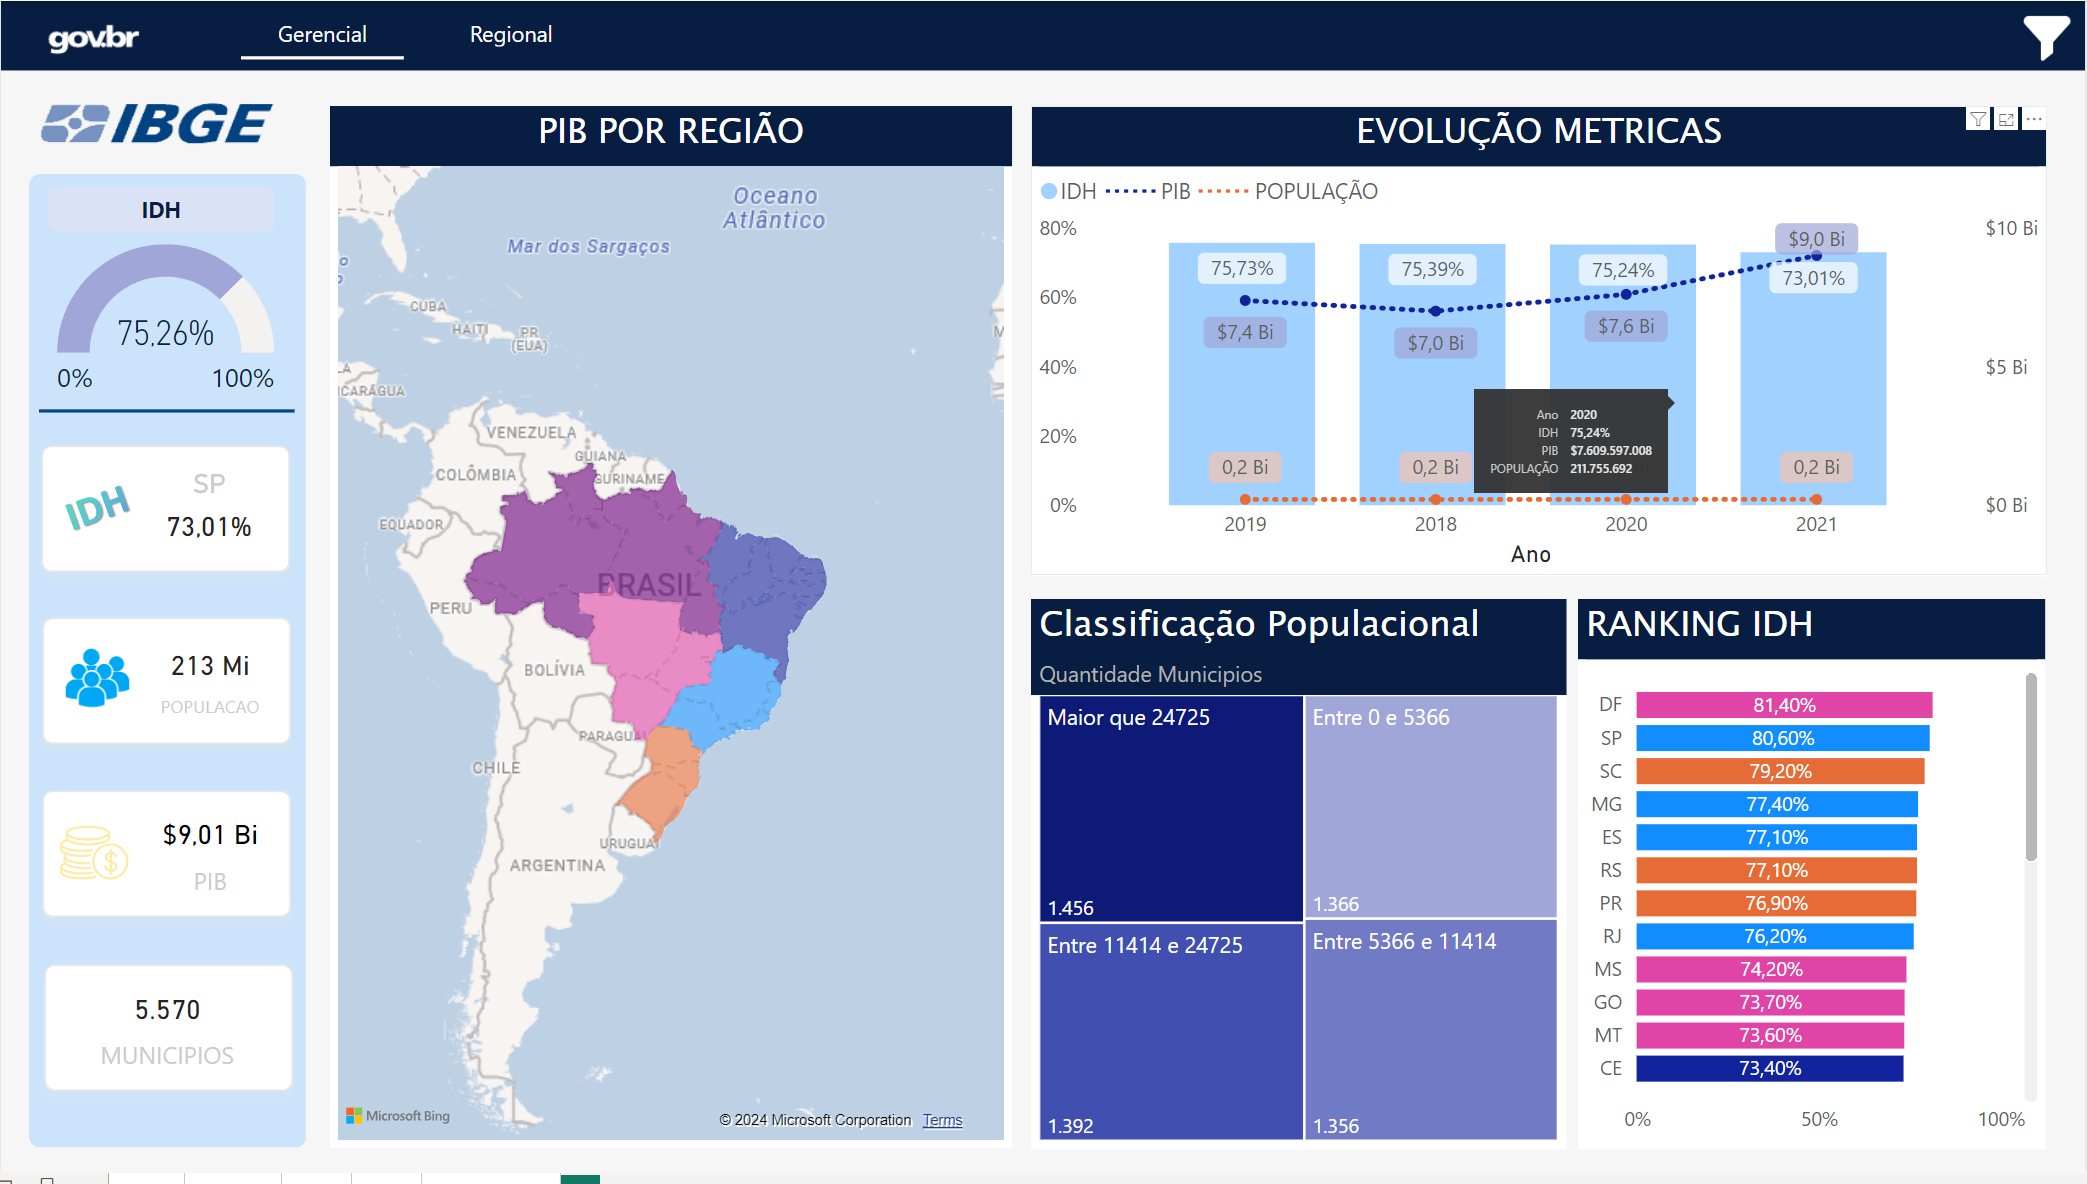

The dashboard page shown, as its layout file describes it:
{"tool":"powerbi","page":{"name":"HOME","canvas":[1280,720],"ordinal":0},"visuals":[{"type":"shape","box":[147.6,27,100.1,15.8],"z":0,"group":"g5"},{"type":"filledMap","title":"PIB POR REGIÃO","fields":{"Category":["ESTADO.UF_AJUSTADA"],"Series":["REGIAO.regiao"]},"box":[201.9,64.3,418.7,640],"z":0},{"type":"shape","box":[17.2,106.2,170.5,598.1],"z":0,"group":"g3"},{"type":"shape","title":"PIB","box":[19.4,268,163,88.2],"z":0,"group":"g2"},{"type":"shape","title":"PIB","box":[19.8,373.6,163,88.2],"z":0,"group":"g4"},{"type":"shape","title":"PIB","box":[19.8,480,163,88.2],"z":0,"group":"g6"},{"type":"shape","title":"PIB","box":[21.1,586.3,163,88.2],"z":0,"group":"g1"},{"type":"actionButton","box":[147.6,0,100.1,43.5],"z":1000,"group":"g5"},{"type":"lineStackedColumnComboChart","title":"EVOLUÇÃO METRICAS","fields":{"Category":["FATO.ano"],"Y":["Medidas.# AVG IDH"],"Y2":["Medidas.# PIB","Medidas.# POPULACAO"]},"box":[632.5,64.3,624.3,288.6],"z":1000},{"type":"gauge","title":"IDH","fields":{"Y":["Medidas.# AVG (P) IDH"]},"box":[12.7,144.3,176.4,107.7],"z":1000,"group":"g3"},{"type":"card","fields":{"Values":["Medidas.# IDH (ESTADO)"]},"box":[80.9,275.3,93.5,70.8],"z":1000,"group":"g2"},{"type":"card","fields":{"Values":["Medidas.# POPULACAO"]},"box":[81.3,380.9,93.5,70.8],"z":1000,"group":"g4"},{"type":"card","fields":{"Values":["Medidas.# PIB"]},"box":[81.3,487.3,93.5,70.8],"z":1000,"group":"g6"},{"type":"card","fields":{"Values":["Medidas.# QTD DIS MUNI"]},"box":[27.4,594,148.8,70.3],"z":1000,"group":"g1"},{"type":"actionButton","box":[263.9,0,99.9,43.4],"z":2000,"group":"g5"},{"type":"image","box":[26.1,272.4,67.1,80.5],"z":2000,"group":"g2"},{"type":"barChart","title":"RANKING IDH","fields":{"Category":["ESTADO.uf"],"Y":["Medidas.# AVG IDH"],"Series":["REGIAO.regiao"]},"box":[969,367.6,287.4,337.9],"z":2000},{"type":"image","box":[33.4,391.5,50.1,49.4],"z":2000,"group":"g4"},{"type":"image","box":[31.2,487.3,52.1,70.8],"z":2000,"group":"g6"},{"type":"group","id":"g1","title":"Grupo 1","box":[21.1,586.3,163,88.2],"z":2000,"group":"g3"},{"type":"group","id":"g2","title":"Grupo 1","box":[19.4,268,163,88.2],"z":3000,"group":"g3"},{"type":"treemap","title":"Classificação Populacional","fields":{"Group":["FATO.Faixa de População"],"Values":["Medidas.# QTD DIS MUNI"]},"box":[632.5,367.5,328.7,337.8],"z":3000},{"type":"image","title":"Btn Off","box":[1232.7,0,47.3,43.6],"z":4000},{"type":"shape","box":[23.2,245.3,157,13.5],"z":4000,"group":"g3"},{"type":"group","id":"g3","title":"Grupo 2","box":[12.7,106.2,176.4,598.1],"z":4500},{"type":"group","id":"g4","title":"Grupo 1","box":[19.8,373.6,163,88.6],"z":5000,"group":"g3"},{"type":"group","id":"g5","title":"Menu","box":[147.6,0,216.2,43.5],"z":6000},{"type":"group","id":"g6","title":"Grupo 1","box":[19.8,480,163.7,87.9],"z":6000,"group":"g3"},{"type":"shape","title":"ih","box":[28.4,114.4,139.1,27.7],"z":7000,"group":"g3"}]}

Visuals, with their boxes on the page's 1280x720 design canvas (x1, y1, x2, y2). These are canvas units, not pixel positions in the 2087x1184 screenshot, which may show the page scaled, cropped or inside an application window:
shape: BBox(148, 27, 248, 43)
"PIB POR REGIÃO" filledMap: BBox(202, 64, 621, 704)
shape: BBox(17, 106, 188, 704)
"PIB" shape: BBox(19, 268, 182, 356)
"PIB" shape: BBox(20, 374, 183, 462)
"PIB" shape: BBox(20, 480, 183, 568)
"PIB" shape: BBox(21, 586, 184, 674)
actionButton: BBox(148, 0, 248, 44)
"EVOLUÇÃO METRICAS" lineStackedColumnComboChart: BBox(632, 64, 1257, 353)
"IDH" gauge: BBox(13, 144, 189, 252)
card - Medidas.# IDH (ESTADO): BBox(81, 275, 174, 346)
card - Medidas.# POPULACAO: BBox(81, 381, 175, 452)
card - Medidas.# PIB: BBox(81, 487, 175, 558)
card - Medidas.# QTD DIS MUNI: BBox(27, 594, 176, 664)
actionButton: BBox(264, 0, 364, 43)
image: BBox(26, 272, 93, 353)
"RANKING IDH" barChart: BBox(969, 368, 1256, 706)
image: BBox(33, 392, 84, 441)
image: BBox(31, 487, 83, 558)
"Grupo 1" group: BBox(21, 586, 184, 674)
"Grupo 1" group: BBox(19, 268, 182, 356)
"Classificação Populacional" treemap: BBox(632, 368, 961, 705)
"Btn Off" image: BBox(1233, 0, 1280, 44)
shape: BBox(23, 245, 180, 259)
"Grupo 2" group: BBox(13, 106, 189, 704)
"Grupo 1" group: BBox(20, 374, 183, 462)
"Menu" group: BBox(148, 0, 364, 44)
"Grupo 1" group: BBox(20, 480, 184, 568)
"ih" shape: BBox(28, 114, 168, 142)
